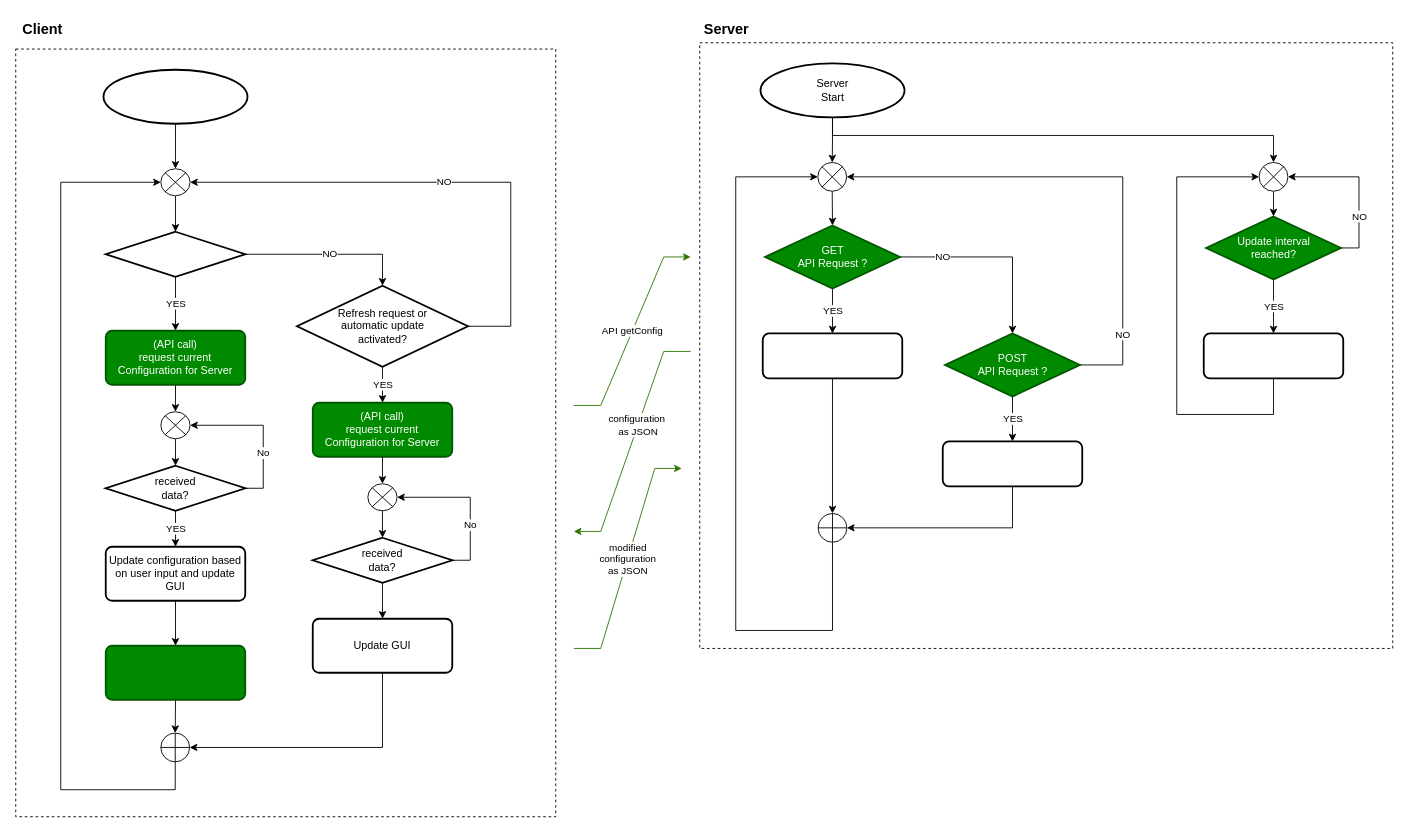
Some shapes in this 1409 by 833 pixel diagram are drawn without their labels. Each missing label, with the centre of its shape:
"(API call) send new configuration to server" belongs at pixel 175 672.
"Client Start" belongs at pixel 175 96.
"New user input?" belongs at pixel 175 253.
"send current configuration" belongs at pixel 832 355.
"update configuration with new data" belongs at pixel 1012 463.
"write current configuration into shift registers via I2C" belongs at pixel 1273 355.
